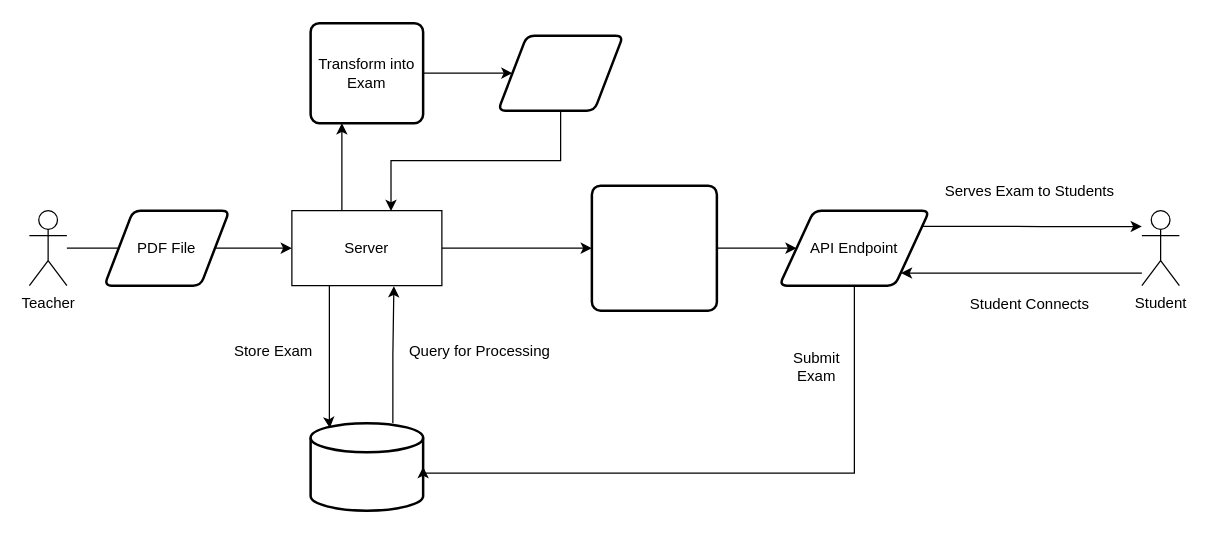
Some shapes in this 1208 by 533 pixel diagram are drawn without their labels. The box of each missing label's shape, as (x1, y1, x2, y2) in pixels:
Digital Exam: (496, 34, 624, 111)
PostgreSQL: (309, 421, 424, 511)
Serve to API Endpoint: (590, 184, 718, 311)
